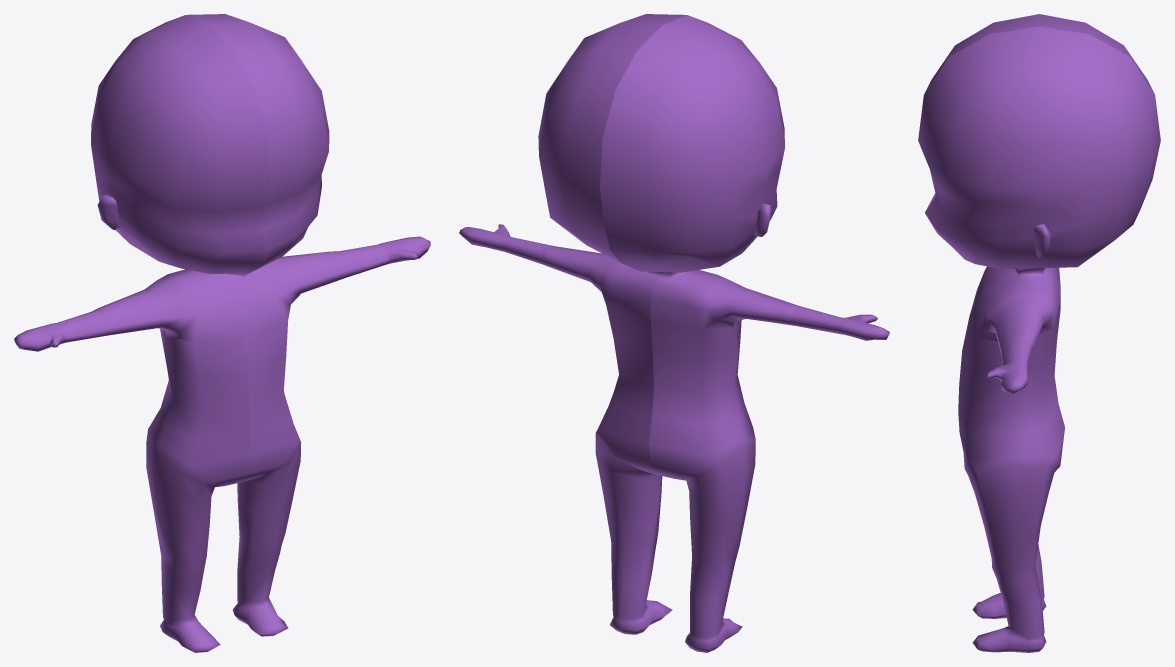
The model's file is 0. rigsiz t pose.fbx.
3 views of the same model, side by side, from view 1: azimuth 30°, elevation 25°; view 2: azimuth 150°, elevation 25°; view 3: azimuth 270°, elevation 25° (orthographic). The views are drawn at different scales.
Parts seen in each view (by area): view 1: pCube9; view 2: pCube9; view 3: pCube9.
Boxes of the visible parts, x1=… form: pCube9: x1=14, y1=14, x2=430, y2=652; pCube9: x1=459, y1=14, x2=889, y2=652; pCube9: x1=918, y1=14, x2=1160, y2=652.
Size of the model in its own units: 182 by 250 by 91.18.
